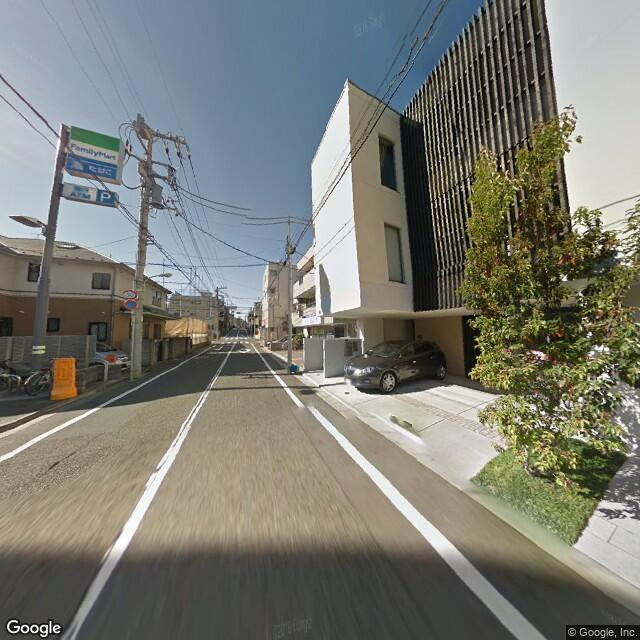family_mart: (65, 120, 121, 182)
